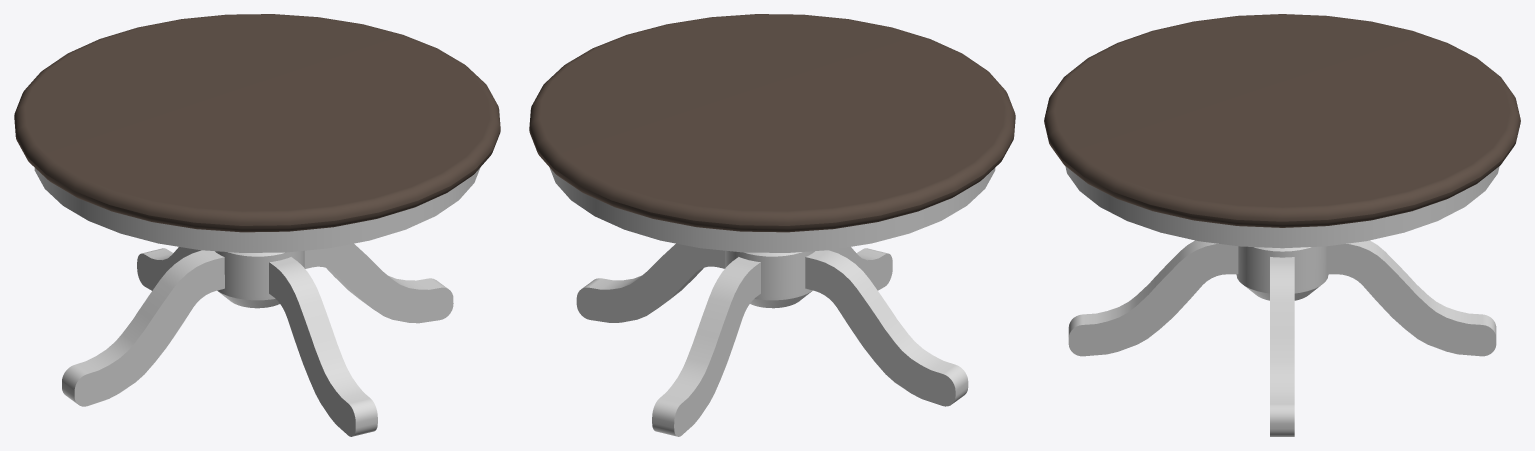
The model's file is TableRonde_24.fbx.
3 renders of one model, left to right at view 1: azimuth 30°, elevation 25°; view 2: azimuth 150°, elevation 25°; view 3: azimuth 270°, elevation 25°, orthographic. The views are drawn at different scales.
Visible parts, largest first — view 1: pCylinder13, pCube17, pCube18, pCube19, pCube16; view 2: pCylinder13, pCube17, pCube16, pCube19, pCube18; view 3: pCylinder13, pCube16, pCube18, pCube19.
Boxes of the visible parts, x1,y1,x2,y2 form: pCylinder13: (14, 14, 500, 308); pCube17: (62, 250, 224, 406); pCube18: (269, 257, 377, 436); pCube19: (304, 243, 453, 323); pCube16: (137, 247, 200, 290); pCylinder13: (529, 14, 1015, 308); pCube17: (805, 250, 968, 406); pCube16: (652, 257, 760, 436); pCube19: (576, 243, 725, 322); pCube18: (829, 247, 892, 290); pCylinder13: (1044, 14, 1520, 300); pCube16: (1326, 240, 1496, 356); pCube18: (1068, 240, 1238, 356); pCube19: (1270, 257, 1294, 436).
Size of the model in its own units: 50.5 by 28.04 by 50.5.
